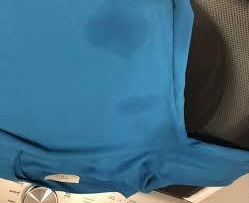oil: (85, 10, 151, 54), (117, 85, 166, 125)
